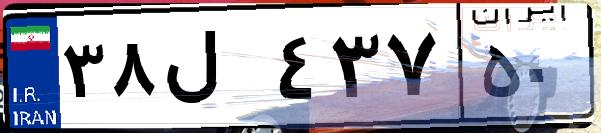0: (525, 38, 570, 115)
3: (330, 28, 385, 110), (57, 26, 110, 100)
4: (270, 28, 330, 110)
5: (475, 38, 525, 113)
7: (385, 28, 445, 110)
8: (110, 28, 158, 98)
ل: (158, 20, 270, 120)
